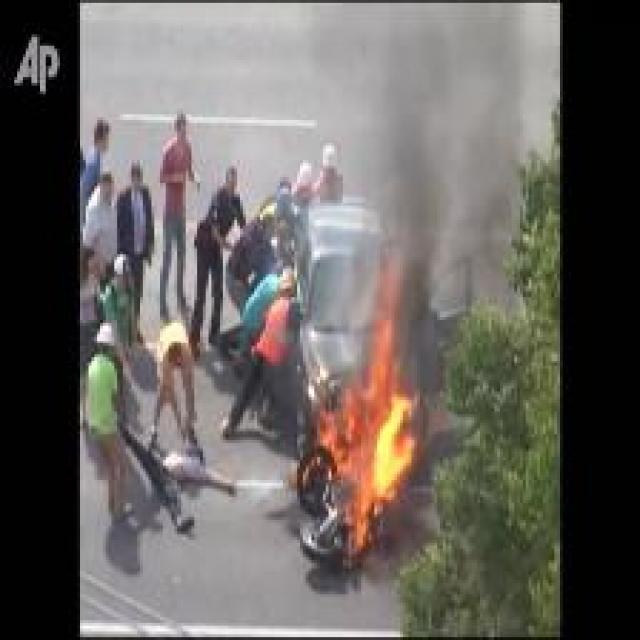Fire: (313, 251, 418, 546)
